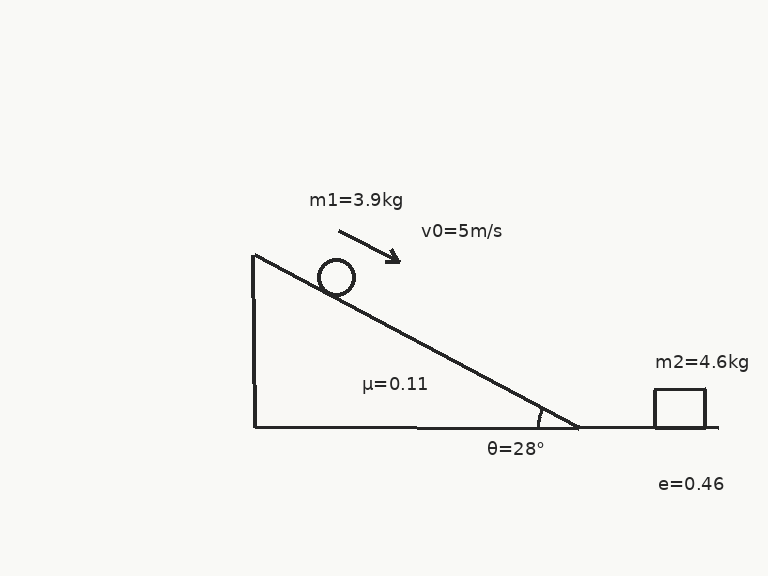ball: (315, 256, 357, 298)
block: (652, 388, 708, 429)
ramp: (252, 253, 580, 429)
